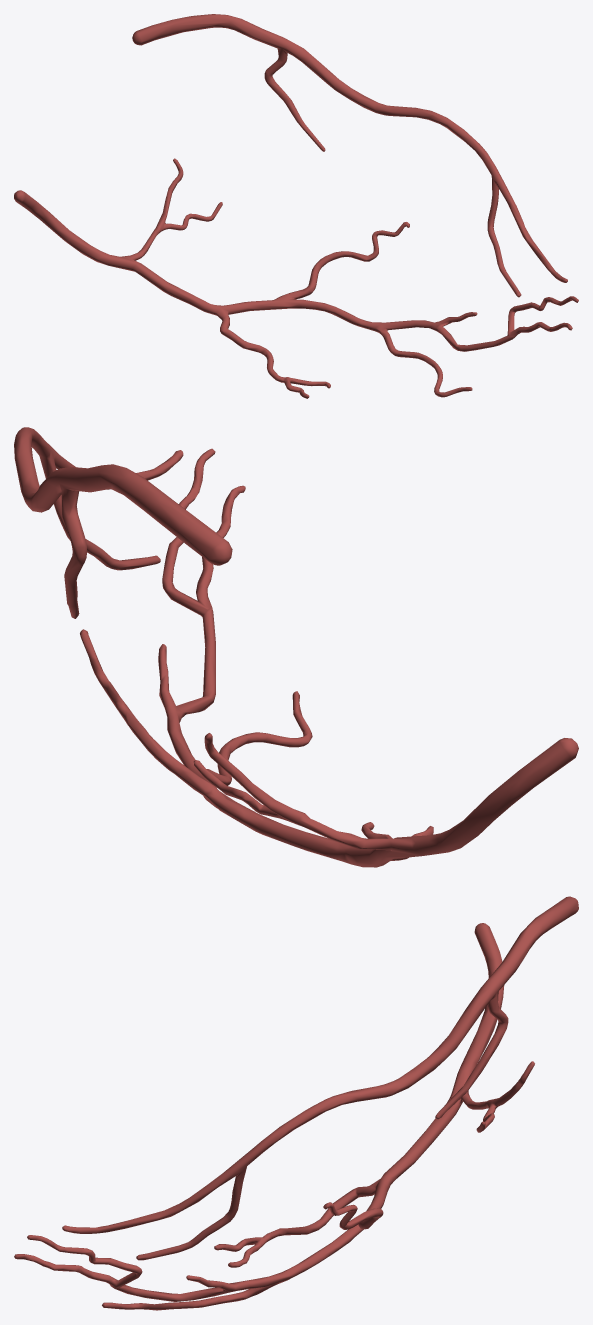
File: FMA76751.glb
3 views of the same model, one above another, from view 1: azimuth 30°, elevation 25°; view 2: azimuth 150°, elevation 25°; view 3: azimuth 270°, elevation 25° (orthographic). The views are drawn at different scales.
Visible parts, largest first — view 1: FMA76751; view 2: FMA76751; view 3: FMA76751.
Part boxes in pixels (box(x1,y1,x2,y2)): FMA76751: box(14, 14, 578, 398); FMA76751: box(14, 427, 578, 867); FMA76751: box(14, 896, 578, 1310).
Size of the model in its own units: 0.0613 by 0.0423 by 0.0615.
